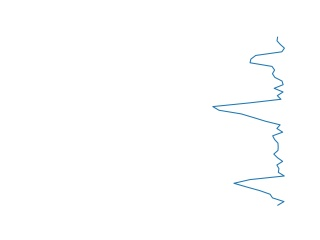underwaterNaturalLevee: (207, 36, 295, 210)
